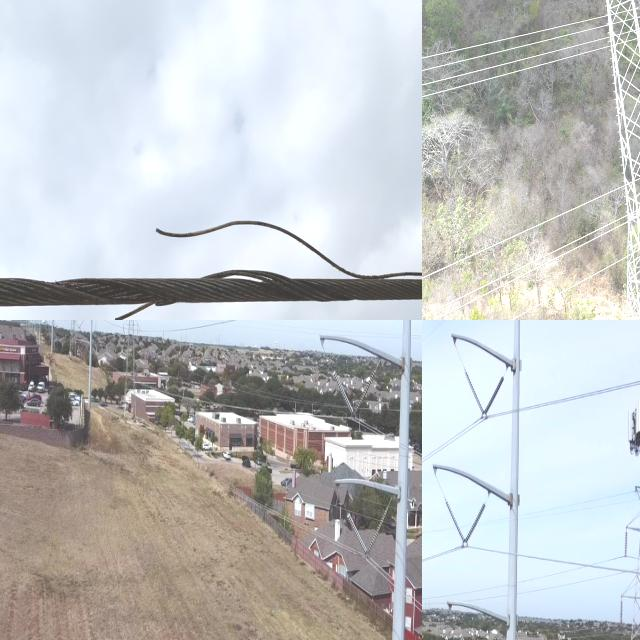杆塔: (573, 0, 640, 320), (119, 320, 149, 436)
正常绝缘子: (322, 351, 365, 428), (356, 498, 399, 571), (342, 363, 386, 431), (456, 354, 492, 425), (456, 493, 493, 561), (340, 495, 374, 565), (473, 369, 510, 431), (440, 487, 471, 555), (619, 525, 632, 569), (615, 590, 626, 640)
电缆破损: (114, 206, 422, 320)
